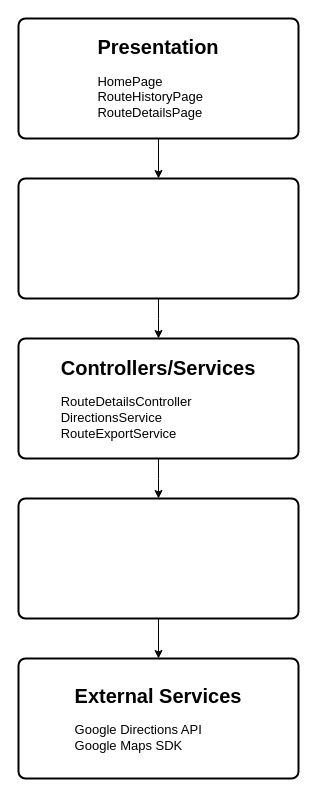
Image size: 316x796. Some labels were removed from this diagram. The shapes that lost their labels are listed below. From the top down, each one's box as (x1, y1, x2, y2) in pixels, then its label:
(17, 177, 299, 299): Riverpod Layer routeHistoryProvider themeModeProvider
(17, 497, 299, 619): Local Data Layer routeLocalDataSource Hive Storage
